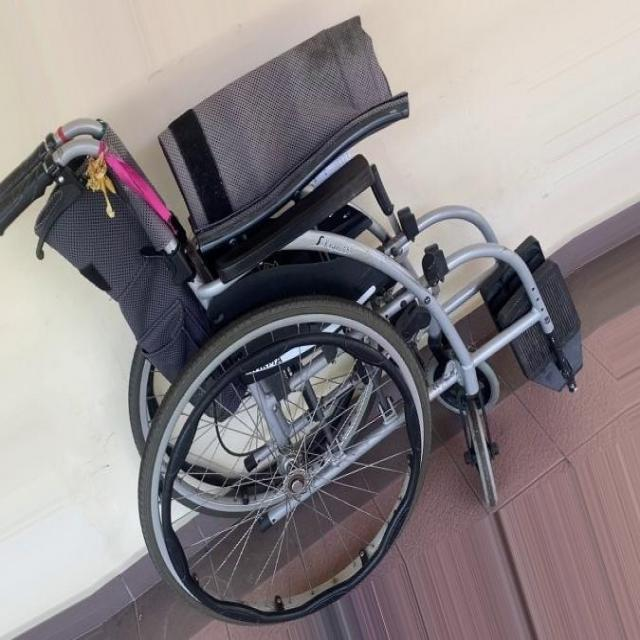wheelchair: (2, 8, 598, 631)
